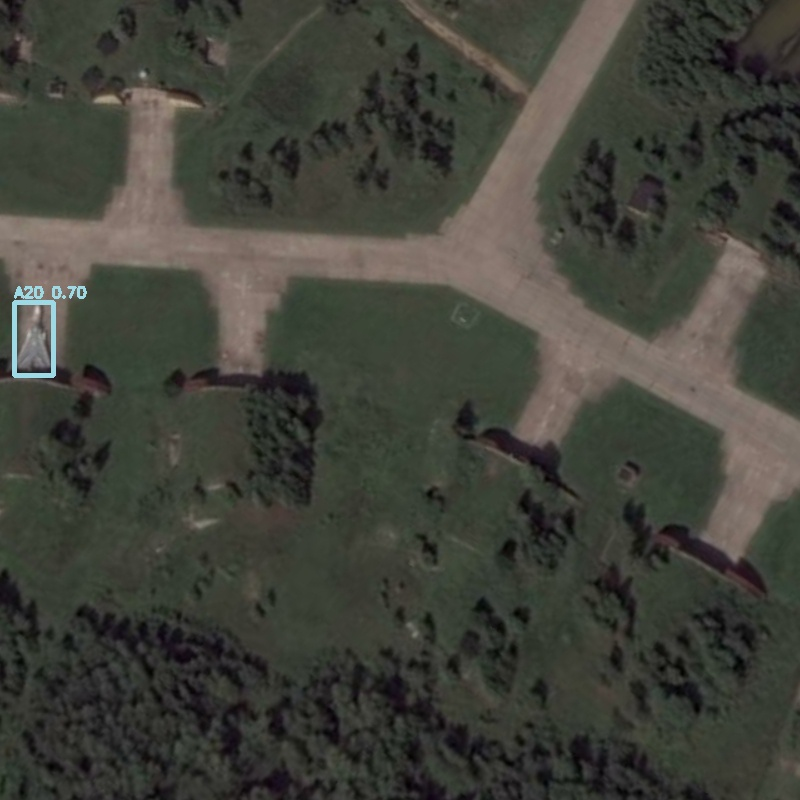A20: (14, 302, 53, 375)
